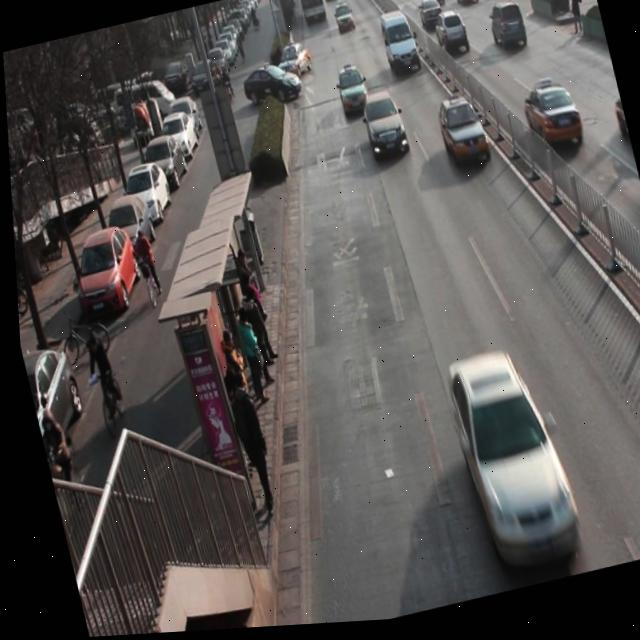car: (435, 346, 586, 588), (518, 82, 584, 159), (433, 95, 491, 179), (357, 91, 410, 169), (485, 4, 532, 63), (330, 65, 369, 118), (433, 11, 470, 60), (278, 38, 313, 84), (413, 0, 444, 35), (332, 5, 354, 37), (451, 0, 481, 14), (420, 0, 446, 13)
truck: (374, 12, 421, 82)
